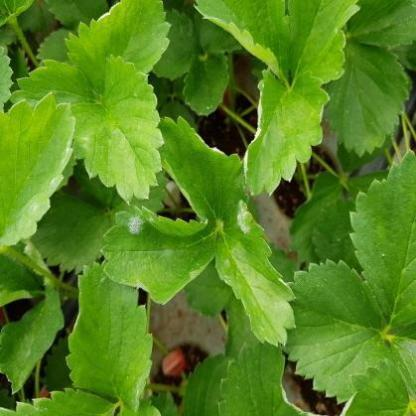Strawberry_Powdery_Mildew_Leaf: (69, 49, 165, 205), (100, 203, 220, 306), (0, 91, 77, 248), (243, 68, 331, 198), (157, 115, 254, 232), (63, 0, 171, 100), (215, 222, 297, 347), (218, 341, 316, 415)
